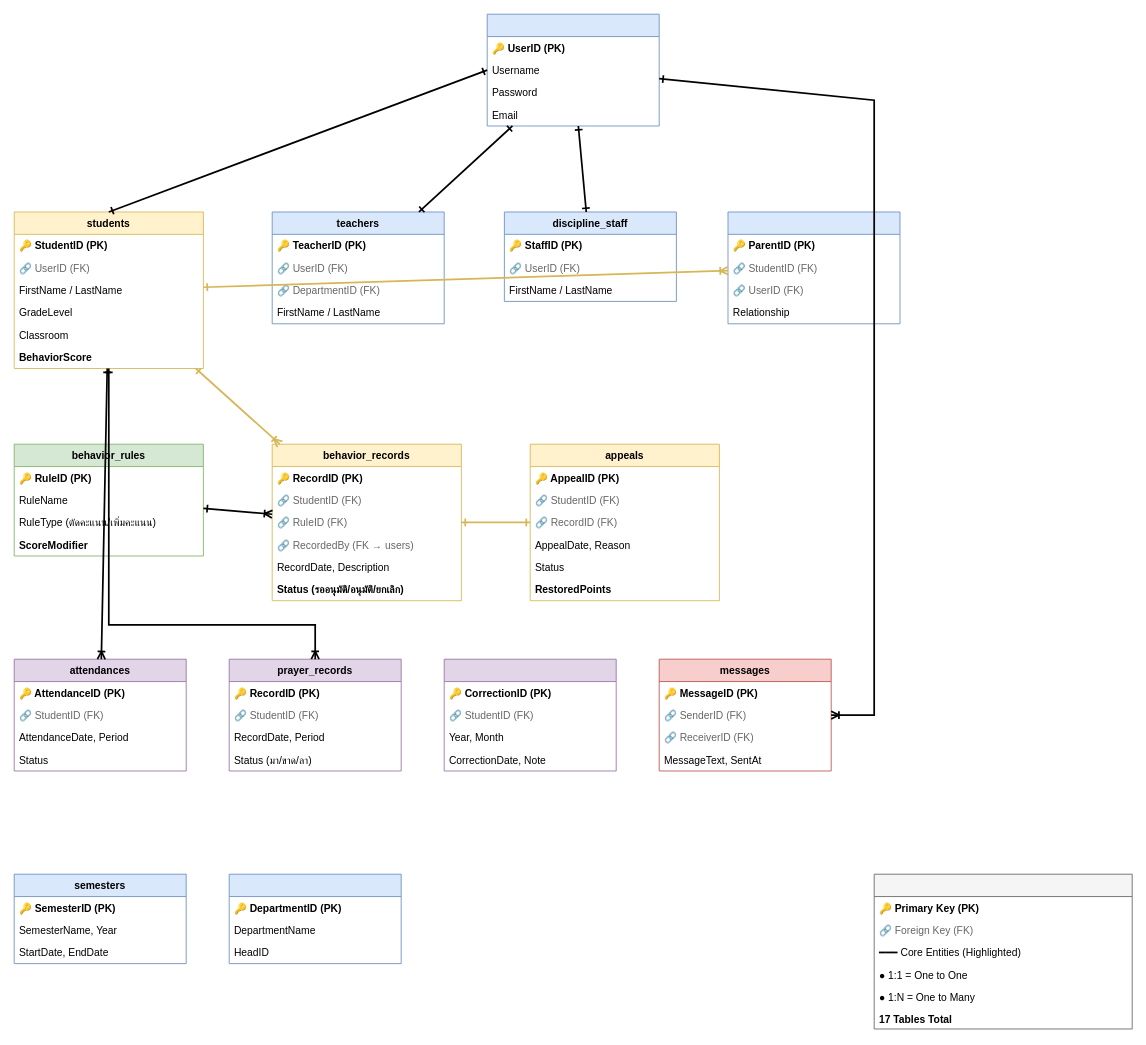
Image size: 1146x1045. Some labels were removed from this diagram. Each missing label, with the box of its shape:
departments: (228, 873, 401, 964)
Legend: (873, 873, 1132, 1029)
parents: (727, 211, 900, 324)
prayer_corrections: (443, 658, 616, 771)
users: (486, 13, 659, 126)
